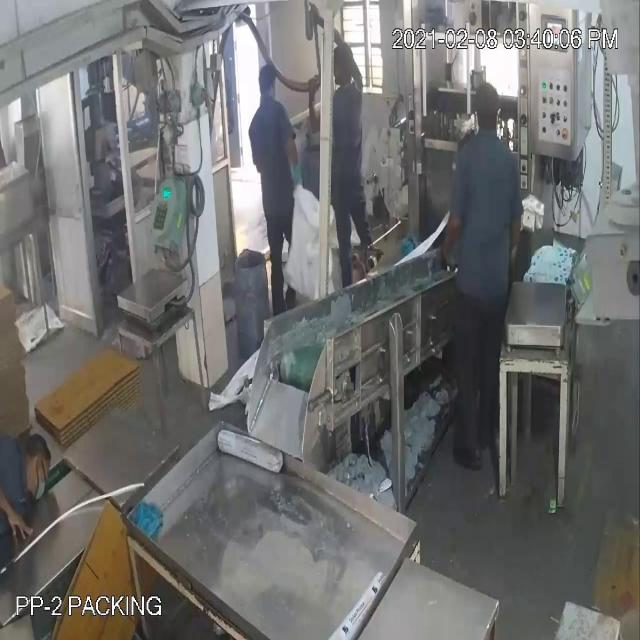No_Gloves: (22, 60, 446, 518)
